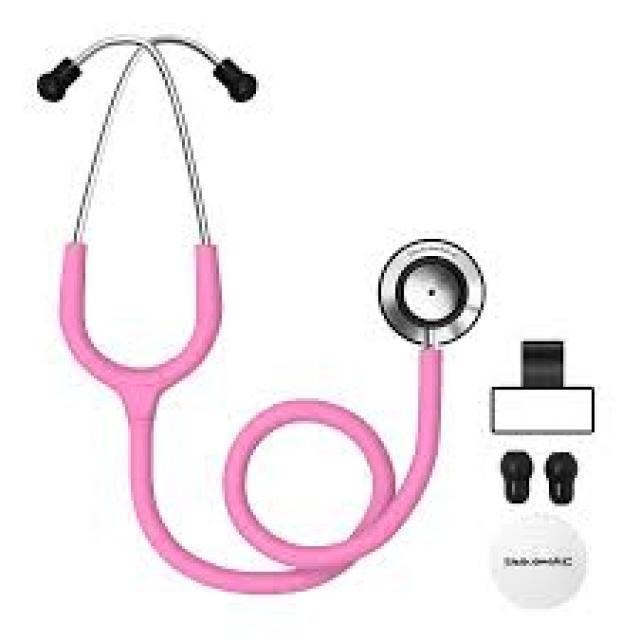stethoscope: (10, 30, 482, 613)
